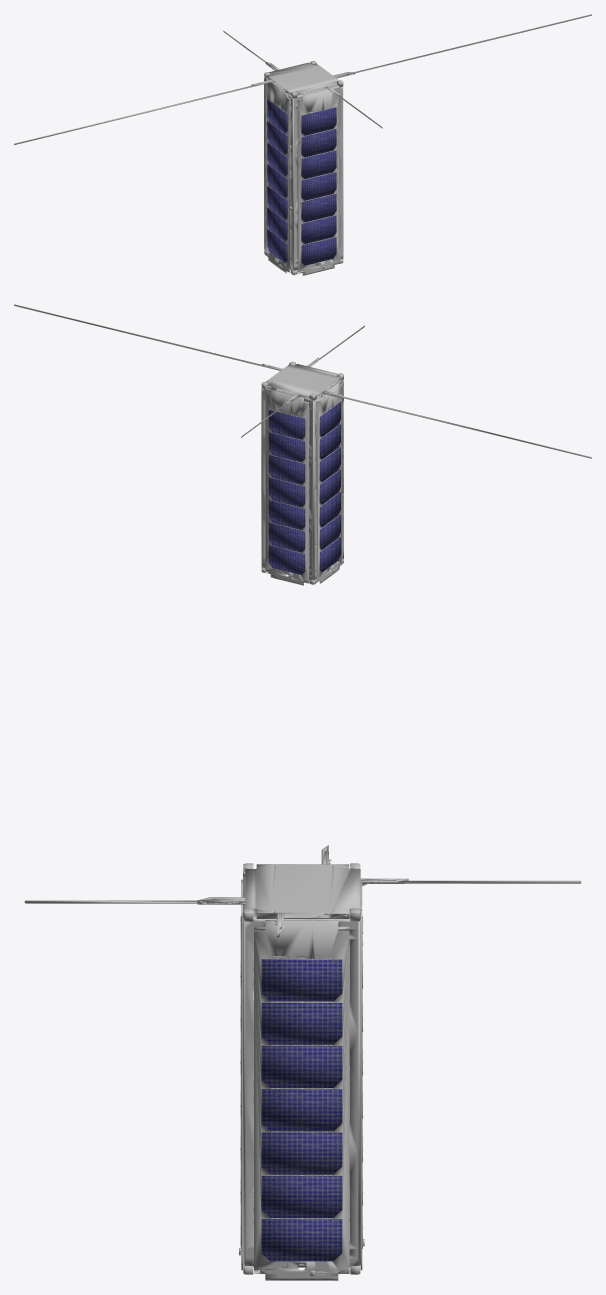
File: stf1_red.obj
3 renders of one model, top to bottom at view 1: azimuth 30°, elevation 25°; view 2: azimuth 150°, elevation 25°; view 3: azimuth 270°, elevation 25°, orthographic. The views are drawn at different scales.
Bounding box in the file's own units: 1.11 × 0.345 × 0.474.
